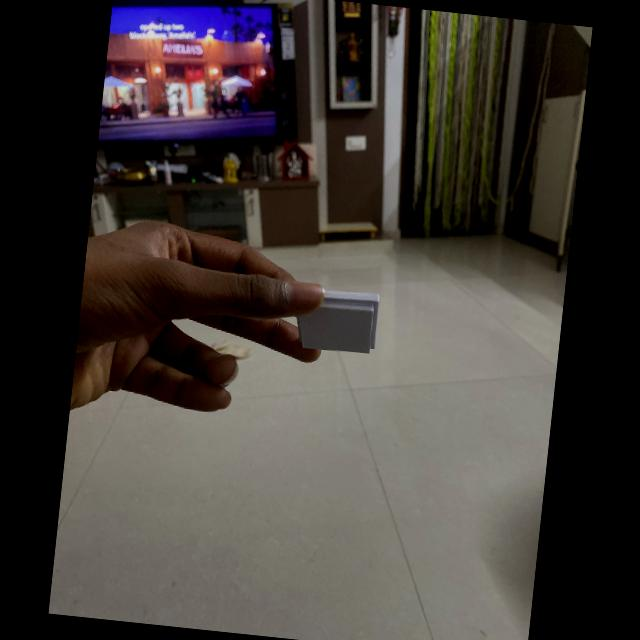RASPBERY PI CAM ENCLOSURE: (292, 284, 380, 354)
